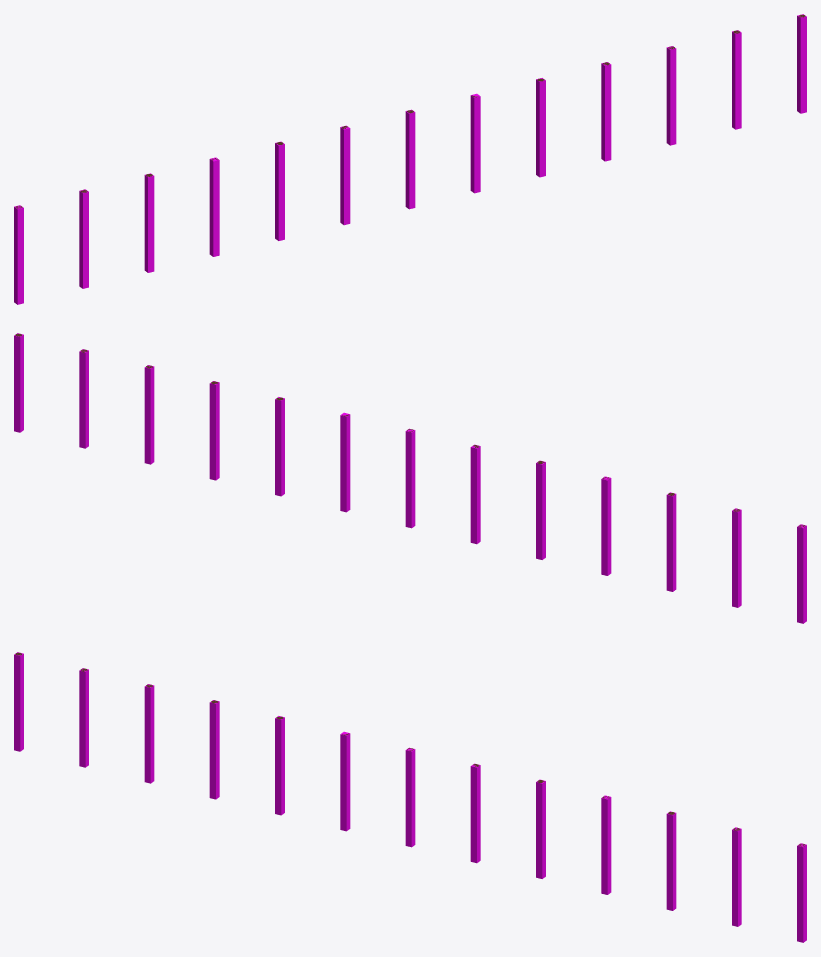
The model's file is tiang_usei.glb.
3 renders of one model, top to bottom at view 1: azimuth 30°, elevation 25°; view 2: azimuth 150°, elevation 25°; view 3: azimuth 330°, elevation 25°, orthographic.
Visible parts, largest first — view 1: col_tiang_usei_08, col_tiang_usei_04, col_tiang_usei_06, col_tiang_usei_11, col_tiang_usei_10, col_tiang_usei_07, col_tiang_usei_03, col_tiang_usei_01, col_tiang_usei_02, col_tiang_usei_13, col_tiang_usei_12, col_tiang_usei_09 (+1 smaller); view 2: col_tiang_usei_08, col_tiang_usei_04, col_tiang_usei_07, col_tiang_usei_06, col_tiang_usei_11, col_tiang_usei_10, col_tiang_usei_03, col_tiang_usei_01, col_tiang_usei_02, col_tiang_usei_12, col_tiang_usei_05, col_tiang_usei_09 (+1 smaller); view 3: col_tiang_usei_06, col_tiang_usei_07, col_tiang_usei_10, col_tiang_usei_08, col_tiang_usei_03, col_tiang_usei_04, col_tiang_usei_11, col_tiang_usei_13, col_tiang_usei_12, col_tiang_usei_02, col_tiang_usei_01, col_tiang_usei_09 (+1 smaller).
Boxes of the visible parts, x1=… form: col_tiang_usei_08: x1=470, y1=93, x2=480, y2=193; col_tiang_usei_04: x1=209, y1=157, x2=219, y2=256; col_tiang_usei_06: x1=340, y1=125, x2=350, y2=225; col_tiang_usei_11: x1=666, y1=46, x2=676, y2=145; col_tiang_usei_10: x1=601, y1=62, x2=611, y2=161; col_tiang_usei_07: x1=405, y1=109, x2=415, y2=209; col_tiang_usei_03: x1=144, y1=173, x2=154, y2=272; col_tiang_usei_01: x1=14, y1=205, x2=23, y2=304; col_tiang_usei_02: x1=79, y1=189, x2=88, y2=288; col_tiang_usei_13: x1=797, y1=14, x2=806, y2=113; col_tiang_usei_12: x1=732, y1=30, x2=741, y2=129; col_tiang_usei_09: x1=536, y1=78, x2=545, y2=177; col_tiang_usei_08: x1=340, y1=412, x2=350, y2=512; col_tiang_usei_04: x1=601, y1=476, x2=611, y2=575; col_tiang_usei_07: x1=405, y1=428, x2=415, y2=528; col_tiang_usei_06: x1=470, y1=444, x2=480, y2=544; col_tiang_usei_11: x1=144, y1=365, x2=154, y2=464; col_tiang_usei_10: x1=209, y1=381, x2=219, y2=480; col_tiang_usei_03: x1=666, y1=492, x2=676, y2=591; col_tiang_usei_01: x1=797, y1=524, x2=806, y2=623; col_tiang_usei_02: x1=732, y1=508, x2=741, y2=607; col_tiang_usei_12: x1=79, y1=349, x2=88, y2=448; col_tiang_usei_05: x1=536, y1=460, x2=545, y2=559; col_tiang_usei_09: x1=275, y1=397, x2=284, y2=496; col_tiang_usei_06: x1=340, y1=731, x2=350, y2=831; col_tiang_usei_07: x1=405, y1=747, x2=415, y2=847; col_tiang_usei_10: x1=601, y1=795, x2=611, y2=894; col_tiang_usei_08: x1=470, y1=763, x2=480, y2=863; col_tiang_usei_03: x1=144, y1=684, x2=154, y2=783; col_tiang_usei_04: x1=209, y1=700, x2=219, y2=799; col_tiang_usei_11: x1=666, y1=811, x2=676, y2=910; col_tiang_usei_13: x1=797, y1=843, x2=806, y2=942; col_tiang_usei_12: x1=732, y1=827, x2=741, y2=926; col_tiang_usei_02: x1=79, y1=668, x2=88, y2=767; col_tiang_usei_01: x1=14, y1=652, x2=23, y2=751; col_tiang_usei_09: x1=536, y1=779, x2=545, y2=878.
Size of the model in its own units: 30.24 by 3.5 by 0.24.
Materials: 2 (1 with a texture image).
